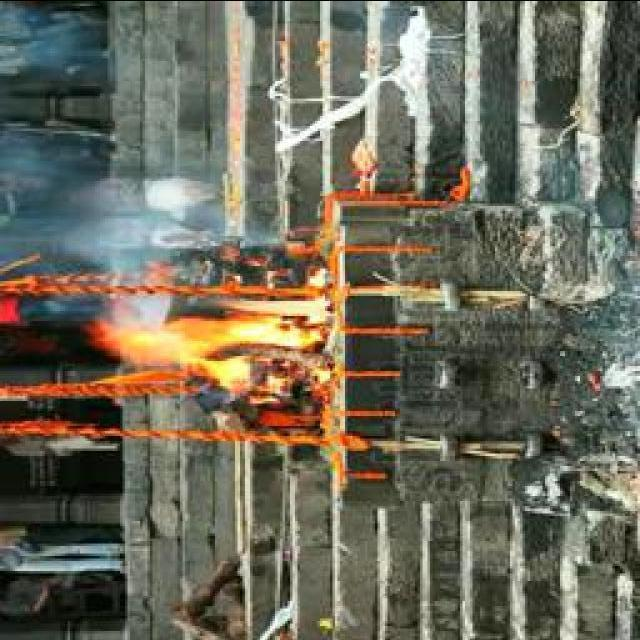Fire: (103, 290, 337, 391)
